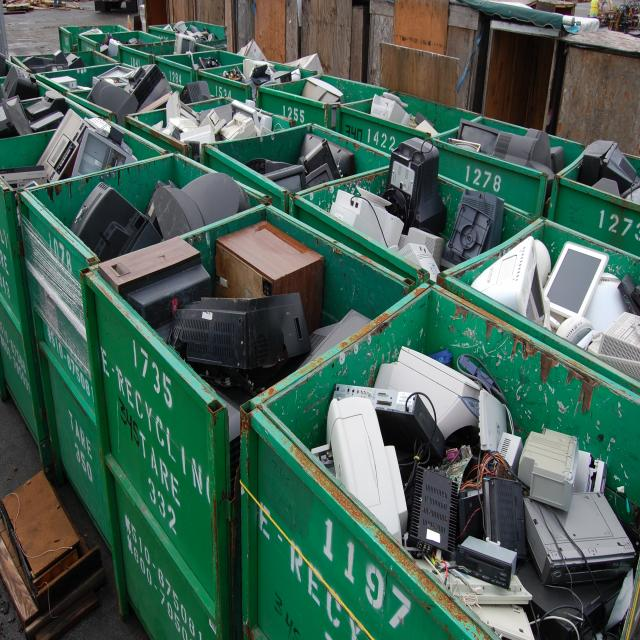hazard: (324, 355, 639, 640), (323, 140, 504, 260), (489, 244, 637, 372), (135, 280, 297, 386), (81, 171, 237, 245), (8, 113, 127, 186), (157, 95, 268, 139), (460, 124, 565, 163), (82, 68, 174, 108), (582, 141, 637, 203)
